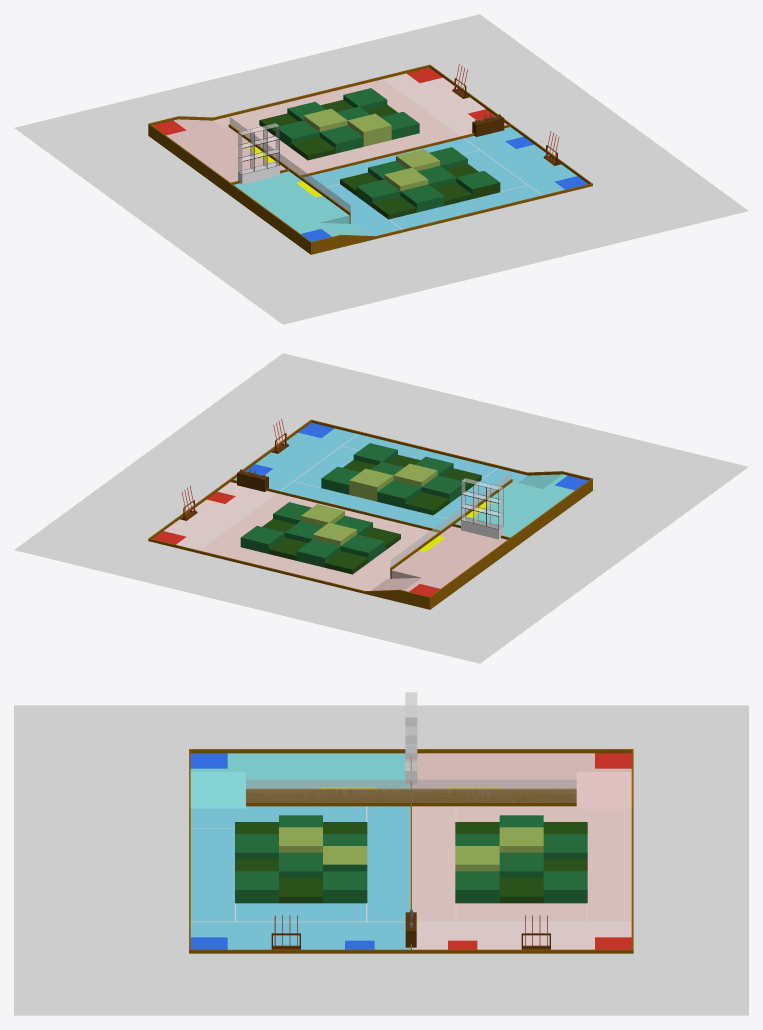
File: robocon2026.dae
3 renders of one model, top to bottom at view 1: azimuth 30°, elevation 25°; view 2: azimuth 150°, elevation 25°; view 3: azimuth 270°, elevation 25°, orthographic. The views are drawn at different scales.
Visible parts, largest first — view 1: 平面.005, 主地图, 平面.006, 区域三放置架, 主地图.002, 2-3区围栏; view 2: 平面.005, 主地图, 平面.006, 区域三放置架, 主地图.002, 2-3区围栏; view 3: 平面.005, 主地图, 主地图.002, 2-3区围栏, 平面.006, 区域三放置架.
Part boxes in pixels (left/top/right/bottom): 平面.005: left=14, top=14, right=748, bottom=324; 主地图: left=153, top=68, right=587, bottom=241; 平面.006: left=148, top=64, right=592, bottom=254; 区域三放置架: left=238, top=123, right=279, bottom=184; 主地图.002: left=229, top=117, right=350, bottom=221; 2-3区围栏: left=228, top=124, right=350, bottom=223; 平面.005: left=14, top=353, right=748, bottom=663; 主地图: left=153, top=422, right=587, bottom=596; 平面.006: left=148, top=419, right=592, bottom=609; 区域三放置架: left=461, top=478, right=503, bottom=539; 主地图.002: left=390, top=472, right=511, bottom=567; 2-3区围栏: left=390, top=479, right=512, bottom=578; 平面.005: left=14, top=705, right=748, bottom=1015; 主地图: left=190, top=753, right=631, bottom=949; 主地图.002: left=246, top=779, right=576, bottom=802; 2-3区围栏: left=246, top=756, right=576, bottom=806; 平面.006: left=189, top=749, right=633, bottom=953; 区域三放置架: left=405, top=692, right=417, bottom=784.
Bounding box in the file's own units: 20 × 20 × 2.45.
